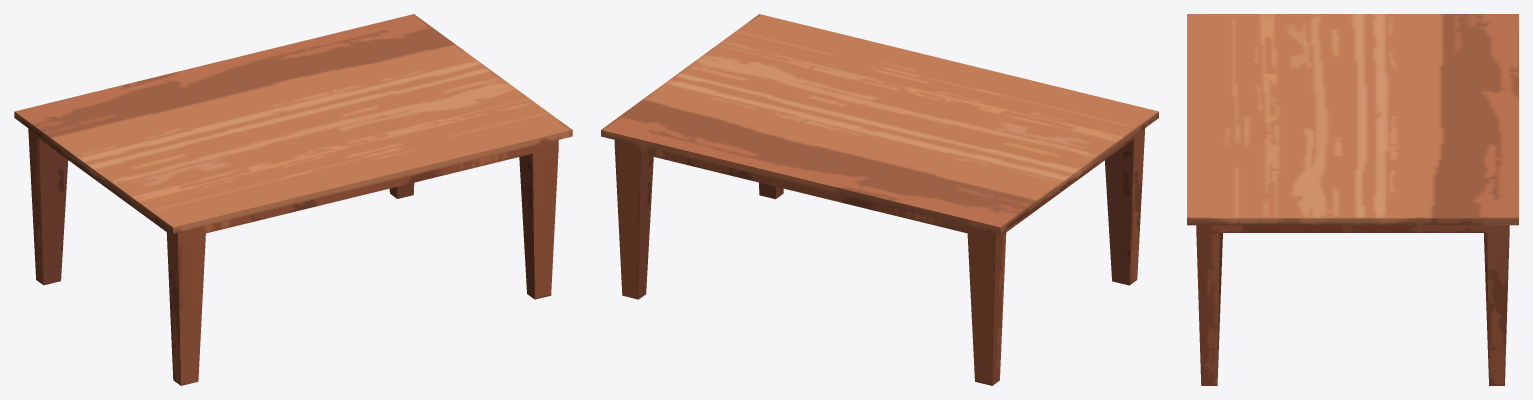
File: Table.fbx
The picture shows the model from 3 angles, left to right: view 1: azimuth 30°, elevation 25°; view 2: azimuth 150°, elevation 25°; view 3: azimuth 270°, elevation 25°; orthographic projection. The views are drawn at different scales.
Visible parts, largest first — view 1: table:pCube2; view 2: table:pCube2; view 3: table:pCube2.
Part boxes in pixels (<box>): table:pCube2: <box>14,14,572,385</box>; table:pCube2: <box>601,14,1158,385</box>; table:pCube2: <box>1187,14,1518,385</box>.
Size of the model in its own units: 722 by 288 by 495.
